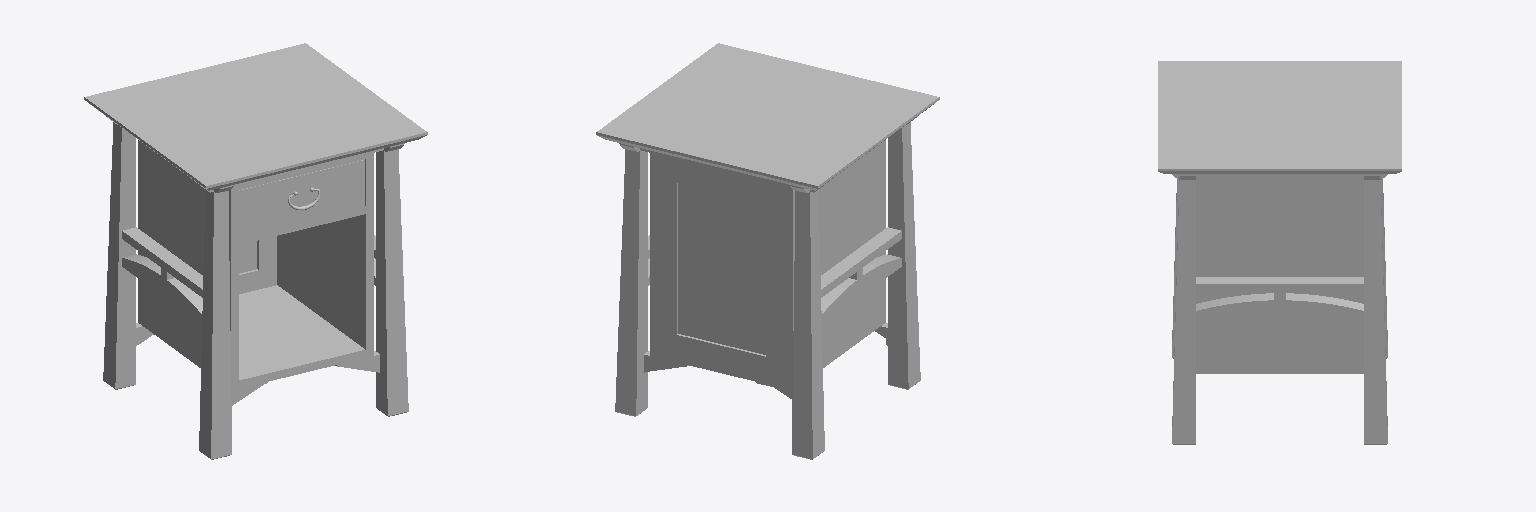
The model's file is BedsideTable.obj.
The picture shows the model from 3 angles: view 1: azimuth 30°, elevation 25°; view 2: azimuth 150°, elevation 25°; view 3: azimuth 270°, elevation 25°; orthographic projection.
Visible parts, largest first — view 1: Mesh29 AB_Nightstand_Top_1_1 Model, Mesh5 AB_Night_Stand_Case_Side1 Model, Mesh20 AB_Night_Stand_Case_Side2 Model, Mesh15 AB_Nightstand_Case_Top_Bottom2 Model, Mesh14 AB_Nightstand_Leg_1_2 Model, Mesh13 AB_Nightstand_Leg_1_1 Model, Mesh16 AB_Nightstand_Leg_1_3 Model, Mesh34 AB_Nightstand_Drawer_Front_Top1 Model, Mesh4 AB_Nightstand_2_Side_Rail_Arched1 Model, Mesh21 AB_Nightstand_Side_Rail__straight_1_2 Model, Mesh28 AB_Nightstand_Case_Divider1 Model, Mesh6 AB_Nightstand_Back_Stile1 Model (+2 smaller); view 2: Mesh29 AB_Nightstand_Top_1_1 Model, Mesh25 AB_Nightstand_Back_Panel1 Model, Mesh20 AB_Night_Stand_Case_Side2 Model, Mesh16 AB_Nightstand_Leg_1_3 Model, Mesh18 AB_Nightstand_Leg_1_4 Model, Mesh14 AB_Nightstand_Leg_1_2 Model, Mesh9 AB_Nightstand_Back_Stile2 Model, Mesh6 AB_Nightstand_Back_Stile1 Model, Mesh2 AB_Nightstand_Back_Rail1 Model, Mesh8 AB_Nightstand_Back_Rail2 Model, Mesh4 AB_Nightstand_2_Side_Rail_Arched1 Model, Mesh21 AB_Nightstand_Side_Rail__straight_1_2 Model; view 3: Mesh29 AB_Nightstand_Top_1_1 Model, Mesh5 AB_Night_Stand_Case_Side1 Model, Mesh13 AB_Nightstand_Leg_1_1 Model, Mesh18 AB_Nightstand_Leg_1_4 Model, Mesh26 AB_Nightstand_2_Side_Rail_Arched2 Model, Mesh17 AB_Nightstand_Side_Rail__straight_1_1 Model, Mesh27 AB_Nightstand_Top_Rail_1_2 Model.
Part boxes in pixels (x1,y1,x2,y2): Mesh29 AB_Nightstand_Top_1_1 Model: (84,43,427,190); Mesh5 AB_Night_Stand_Case_Side1 Model: (277,153,373,357); Mesh20 AB_Night_Stand_Case_Side2 Model: (143,143,238,390); Mesh15 AB_Nightstand_Case_Top_Bottom2 Model: (239,285,365,388); Mesh14 AB_Nightstand_Leg_1_2 Model: (199,190,231,459); Mesh13 AB_Nightstand_Leg_1_1 Model: (376,149,408,416); Mesh16 AB_Nightstand_Leg_1_3 Model: (103,122,135,389); Mesh34 AB_Nightstand_Drawer_Front_Top1 Model: (239,160,364,236); Mesh4 AB_Nightstand_2_Side_Rail_Arched1 Model: (122,254,202,324); Mesh21 AB_Nightstand_Side_Rail__straight_1_2 Model: (122,227,202,297); Mesh28 AB_Nightstand_Case_Divider1 Model: (239,206,365,244); Mesh6 AB_Nightstand_Back_Stile1 Model: (257,236,276,288); Mesh29 AB_Nightstand_Top_1_1 Model: (596,43,939,190); Mesh25 AB_Nightstand_Back_Panel1 Model: (678,184,765,354); Mesh20 AB_Night_Stand_Case_Side2 Model: (818,140,885,367); Mesh16 AB_Nightstand_Leg_1_3 Model: (792,190,824,459); Mesh18 AB_Nightstand_Leg_1_4 Model: (615,149,647,416); Mesh14 AB_Nightstand_Leg_1_2 Model: (888,122,920,389); Mesh9 AB_Nightstand_Back_Stile2 Model: (766,181,794,390); Mesh6 AB_Nightstand_Back_Stile1 Model: (650,153,677,361); Mesh2 AB_Nightstand_Back_Rail1 Model: (677,334,765,383); Mesh8 AB_Nightstand_Back_Rail2 Model: (677,160,765,204); Mesh4 AB_Nightstand_2_Side_Rail_Arched1 Model: (821,254,901,324); Mesh21 AB_Nightstand_Side_Rail__straight_1_2 Model: (821,227,901,297); Mesh29 AB_Nightstand_Top_1_1 Model: (1158,61,1401,173); Mesh5 AB_Night_Stand_Case_Side1 Model: (1196,178,1363,373); Mesh13 AB_Nightstand_Leg_1_1 Model: (1172,178,1195,444); Mesh18 AB_Nightstand_Leg_1_4 Model: (1364,178,1387,444); Mesh26 AB_Nightstand_2_Side_Rail_Arched2 Model: (1196,293,1363,319); Mesh17 AB_Nightstand_Side_Rail__straight_1_1 Model: (1196,277,1363,291); Mesh27 AB_Nightstand_Top_Rail_1_2 Model: (1172,174,1387,177).
Size of the model in its own units: 21 by 25.62 by 20.